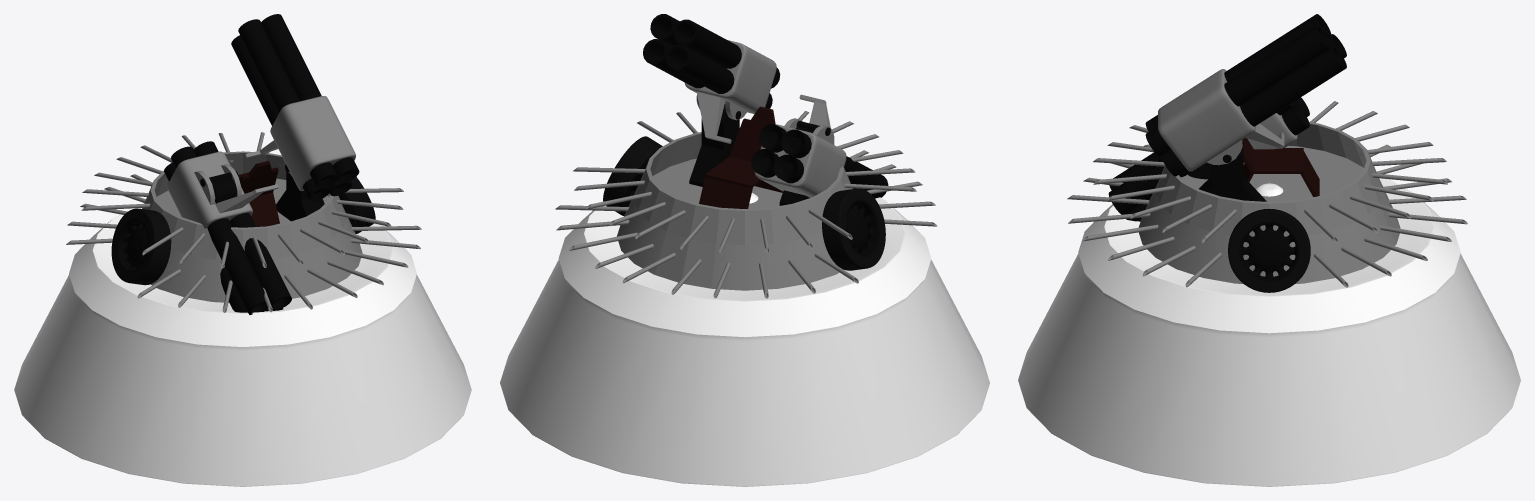
File: Tower_2.1.FBX
3 views of the same model, side by side, from view 1: azimuth 30°, elevation 25°; view 2: azimuth 150°, elevation 25°; view 3: azimuth 270°, elevation 25° (orthographic). The views are drawn at different scales.
Visible parts, largest first — view 1: Cylinder024, Box007, Box006, Box008, Body017, Body018; view 2: Cylinder024, Box007, Box006, Box008, Body017, Body018; view 3: Cylinder024, Box007, Box006, Body018, Box008.
Boxes of the visible parts, bbox=[...] form: Cylinder024: bbox=[14, 203, 471, 486]; Box007: bbox=[66, 132, 421, 312]; Box006: bbox=[231, 14, 359, 201]; Box008: bbox=[164, 141, 291, 314]; Body017: bbox=[111, 208, 171, 285]; Body018: bbox=[338, 176, 375, 233]; Cylinder024: bbox=[500, 193, 989, 486]; Box007: bbox=[555, 104, 937, 298]; Box006: bbox=[643, 14, 780, 143]; Box008: bbox=[751, 94, 888, 198]; Body017: bbox=[822, 188, 885, 270]; Body018: bbox=[603, 136, 662, 215]; Cylinder024: bbox=[1018, 178, 1520, 486]; Box007: bbox=[1067, 101, 1467, 287]; Box006: bbox=[1145, 14, 1346, 176]; Body018: bbox=[1228, 208, 1310, 292]; Box008: bbox=[1108, 97, 1309, 221].
Bounding box in the file's own units: 357 × 357 × 299.
